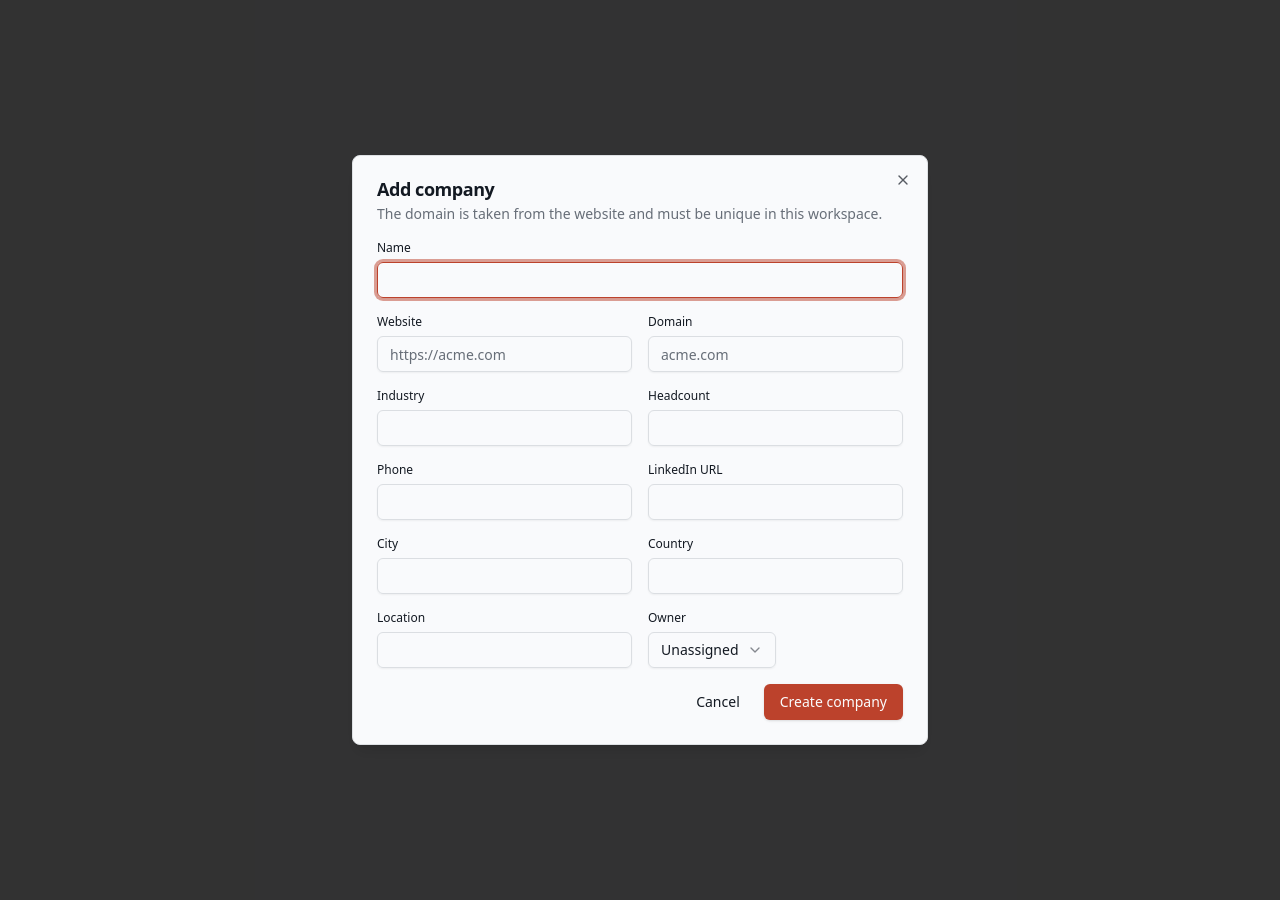
Test case: CompanyFormDialog › requires a name before saving
Click the button "Create company" at (833, 702), box [764,684,903,720]
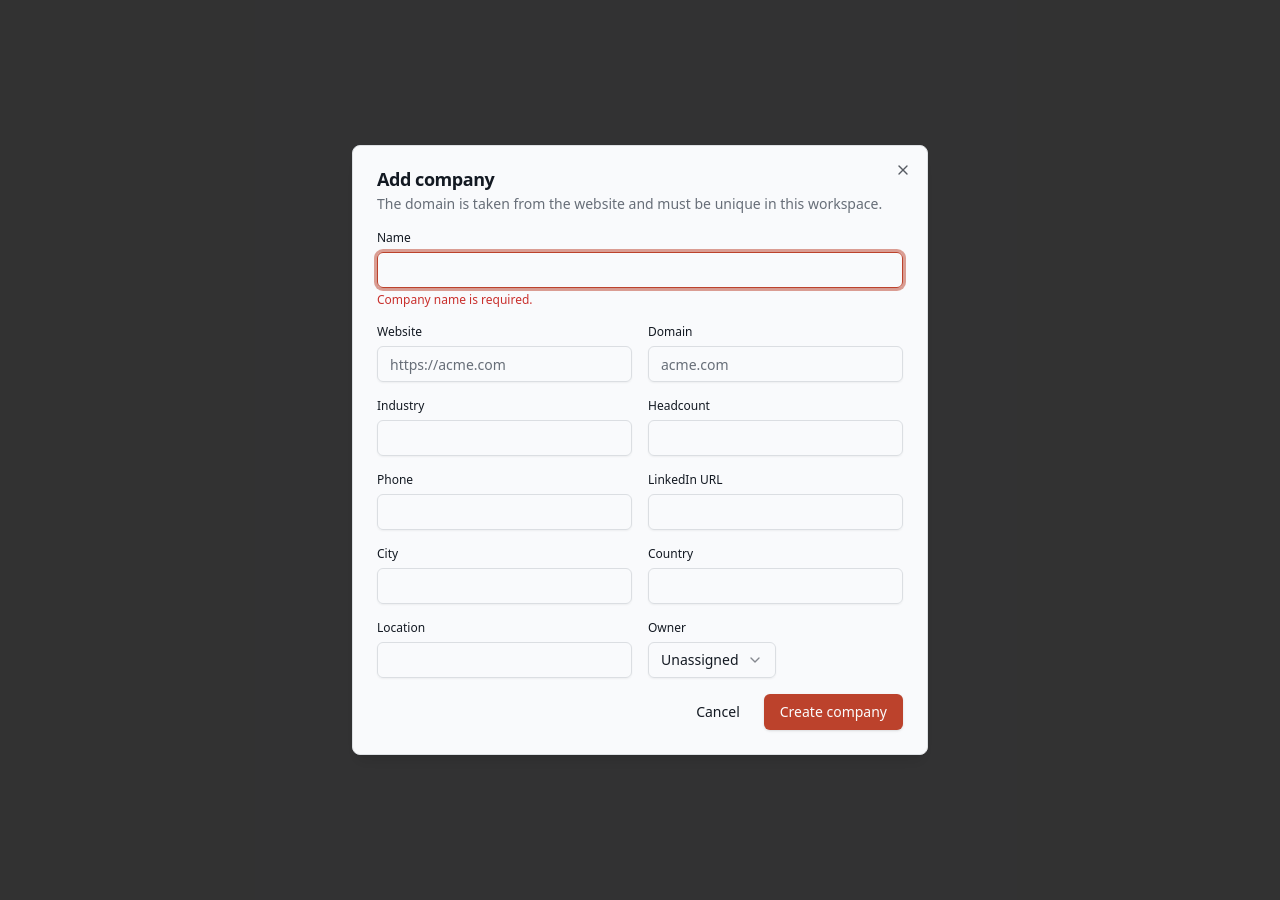
expect the text "Company name is required." is shown: met, box [377,291,532,308]
